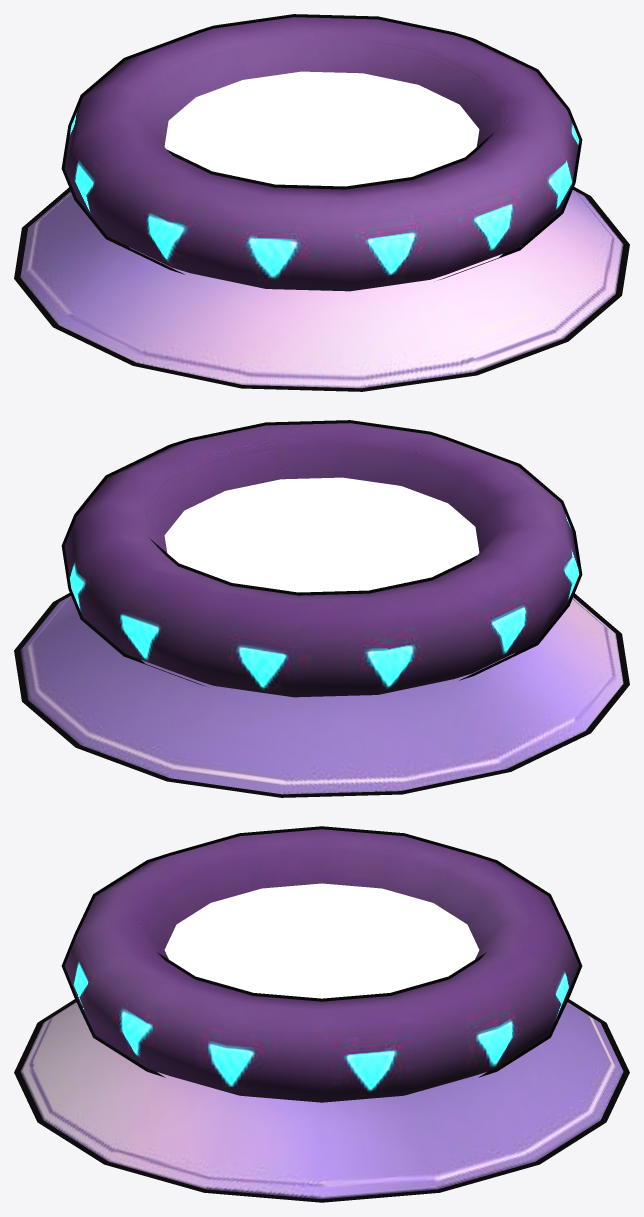
Rendered from 4f597123-5620-4b62-bea3-78522bae606e.glb.
3 views of the same model, one above another, from view 1: azimuth 30°, elevation 25°; view 2: azimuth 150°, elevation 25°; view 3: azimuth 270°, elevation 25° (orthographic).
Visible parts, largest first — view 1: animeShieldBase; view 2: animeShieldBase; view 3: animeShieldBase.
Part boxes in pixels (left/top/right/bottom): animeShieldBase: left=14, top=14, right=629, bottom=391; animeShieldBase: left=14, top=420, right=629, bottom=797; animeShieldBase: left=14, top=826, right=629, bottom=1202.
Size of what is drawn, in the model's own units: 0.8288 by 0.2305 by 0.8288.
3 materials, 1 textured.
